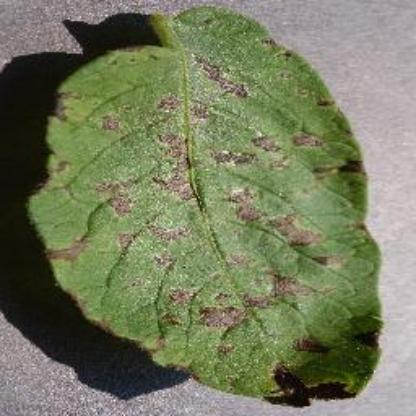Early-Blight: (30, 0, 416, 416)
